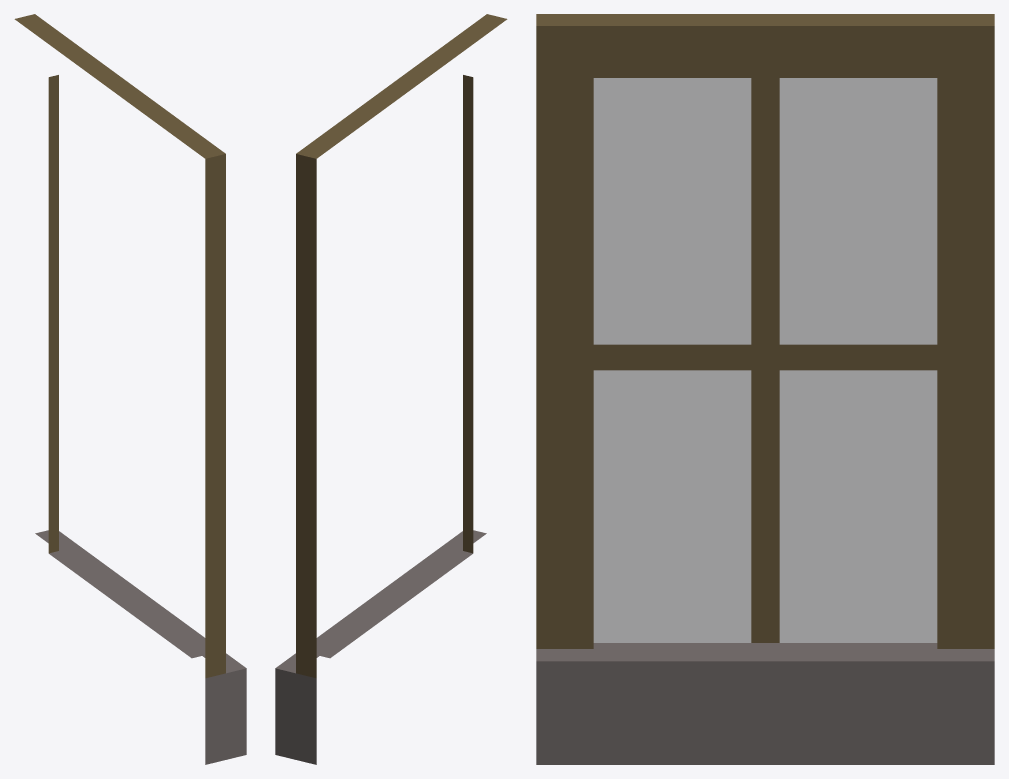
3 renders of one model, left to right at view 1: azimuth 30°, elevation 25°; view 2: azimuth 150°, elevation 25°; view 3: azimuth 270°, elevation 25°, orthographic. The views are drawn at different scales.
Size of the model in its own units: 8 by 112 by 64.
Materials: 1 (1 with a texture image).
